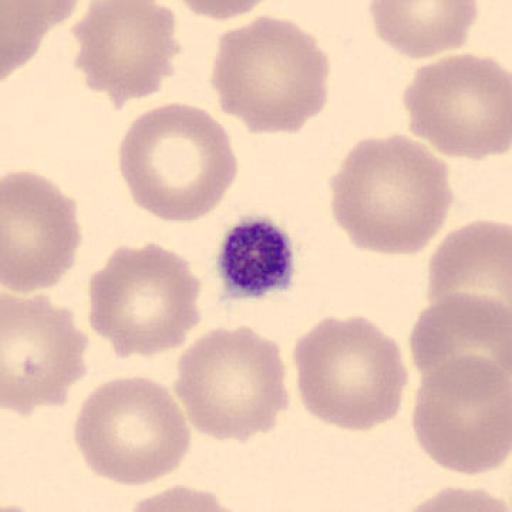Platelet: (213, 212, 299, 303)
RBC: (328, 131, 454, 257), (117, 100, 239, 224), (210, 14, 332, 136), (293, 313, 410, 433), (174, 324, 290, 444), (72, 374, 193, 488), (88, 241, 202, 361), (409, 350, 511, 478), (71, 1, 182, 109), (404, 52, 512, 162), (408, 290, 512, 400), (2, 290, 90, 414), (425, 218, 512, 338), (1, 169, 84, 294), (2, 0, 83, 82), (367, 1, 479, 60), (1, 0, 53, 82), (123, 484, 257, 512), (4, 0, 82, 47), (394, 485, 512, 512), (175, 0, 272, 21), (4, 0, 83, 25)
